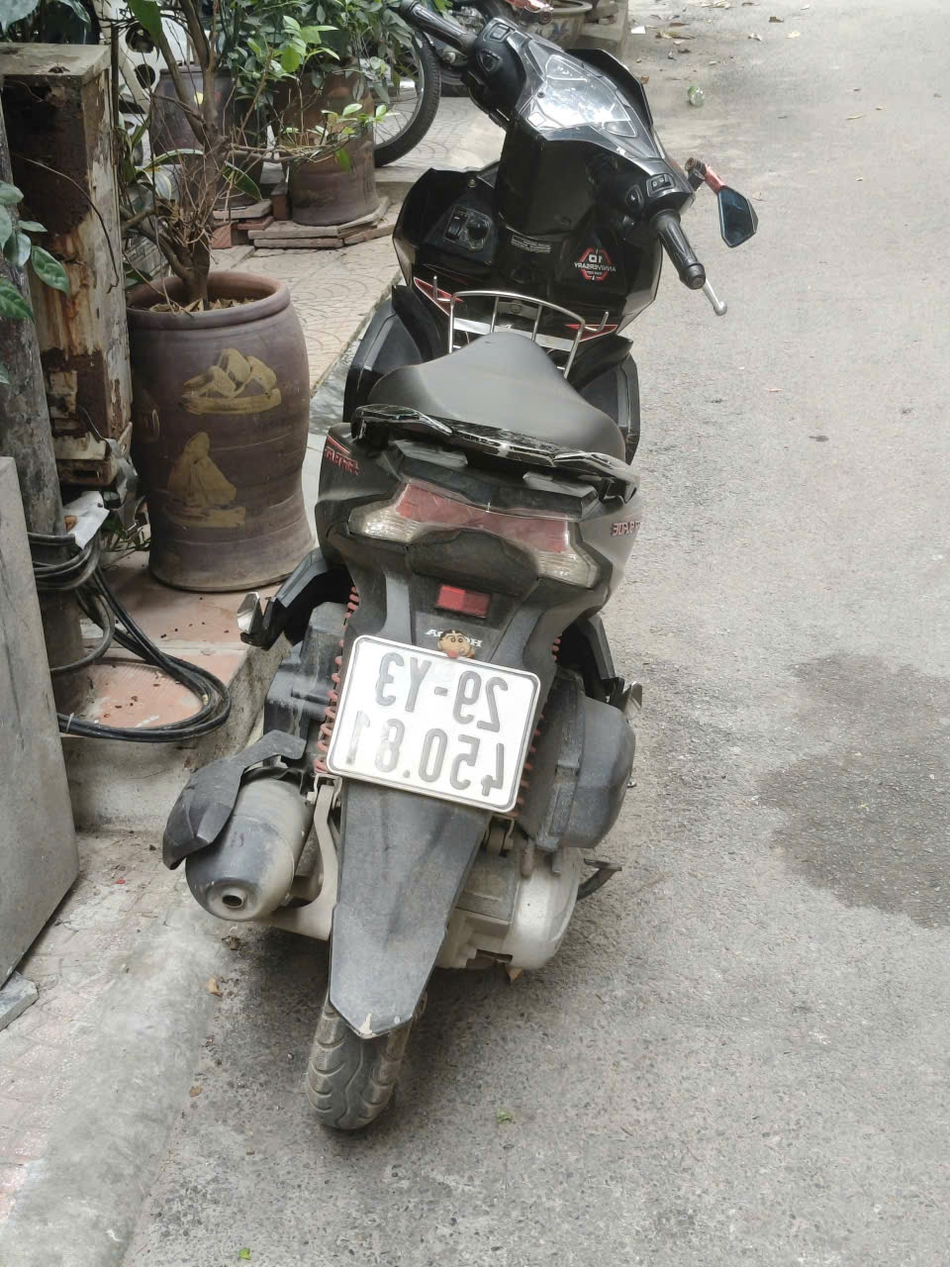plate: (505, 6, 624, 57)
